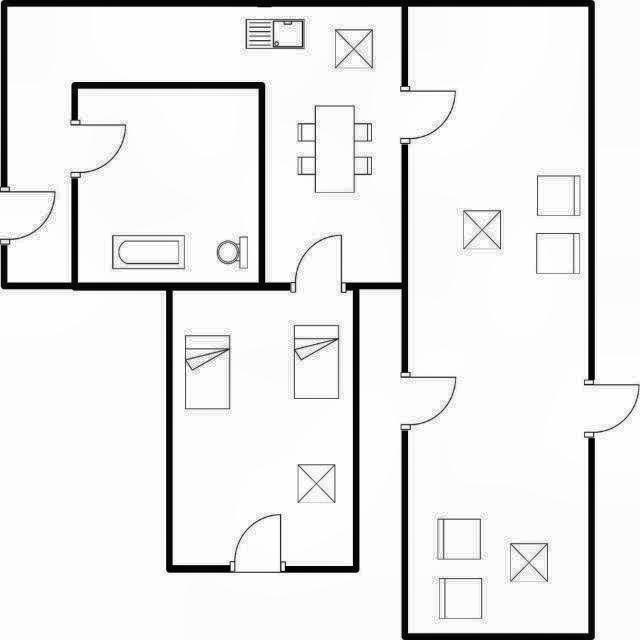room: (408, 7, 588, 633), (7, 7, 401, 283), (173, 291, 353, 565), (78, 89, 259, 283)
